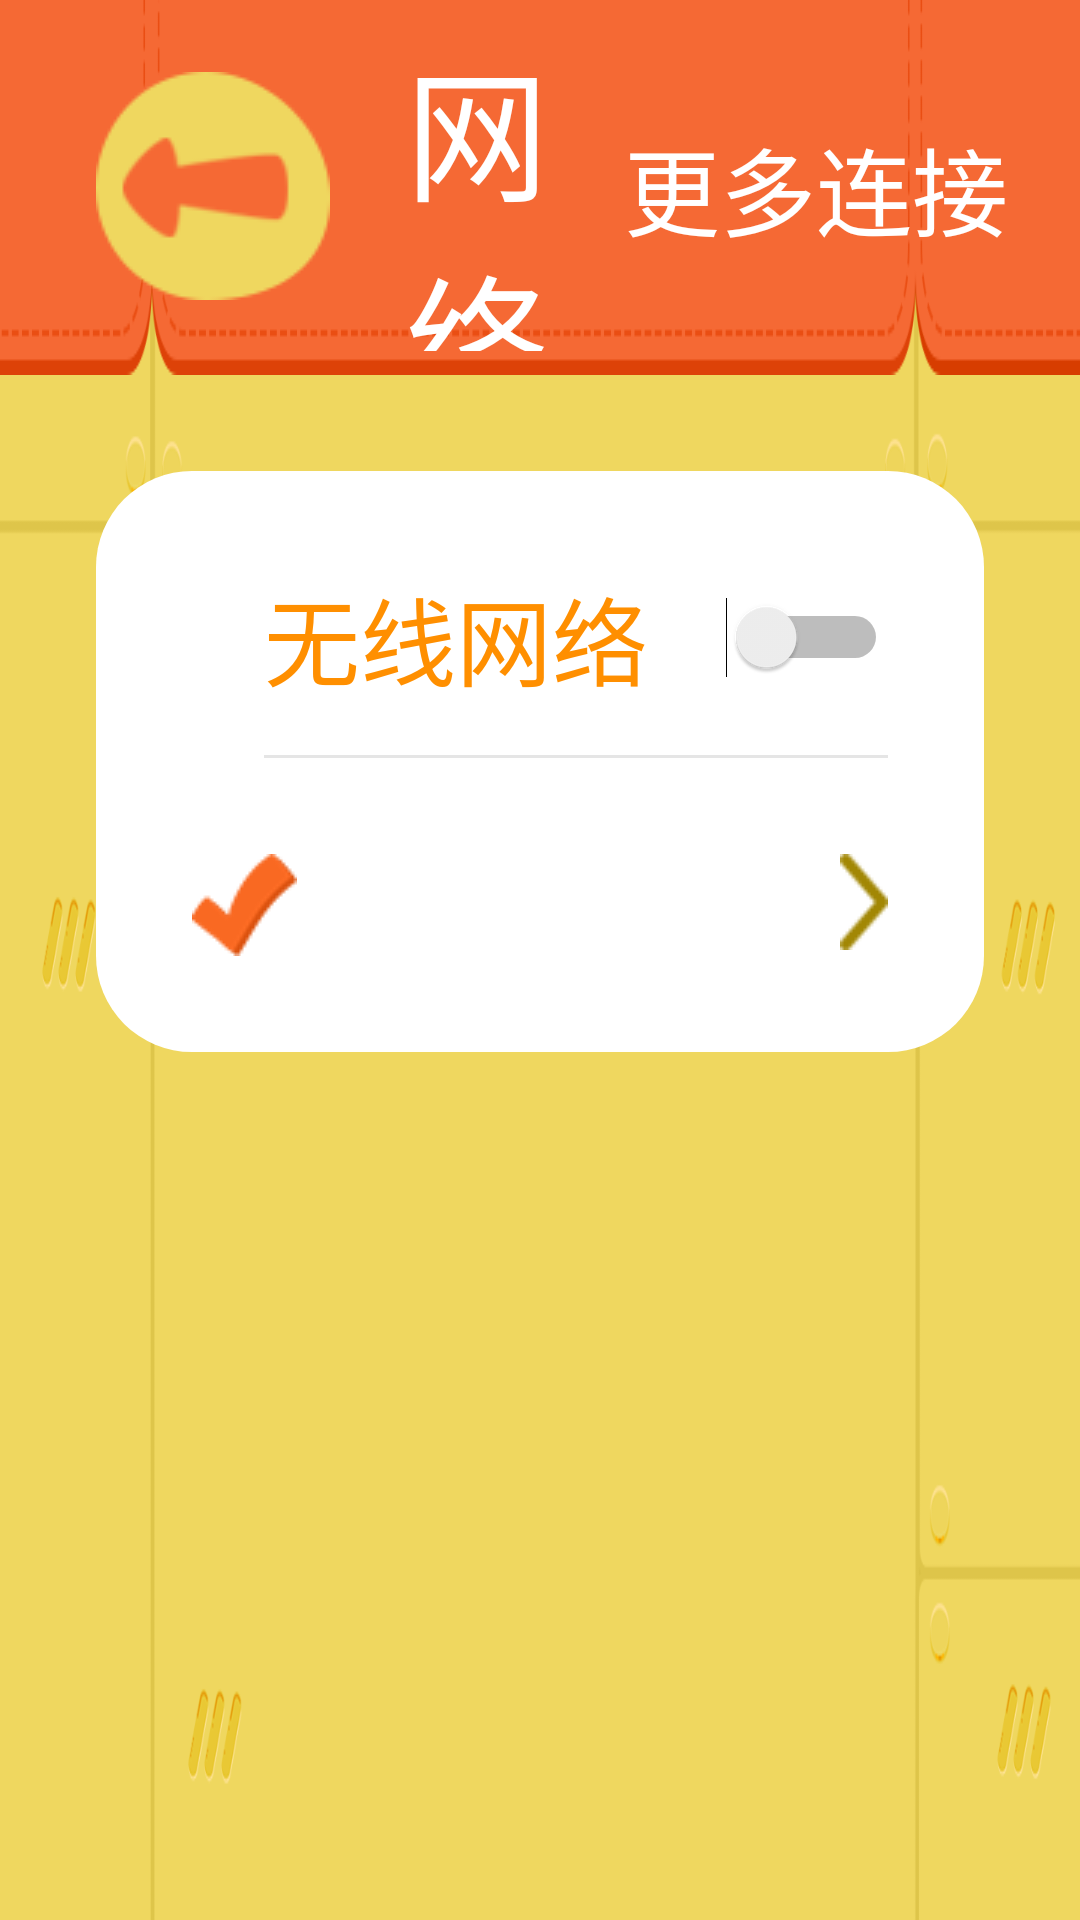

Icons on this 1080×1920 Android screen, each with the point to tap as [x,y]:
guide back: [215,181]
voice set arrow right: [864,902]
